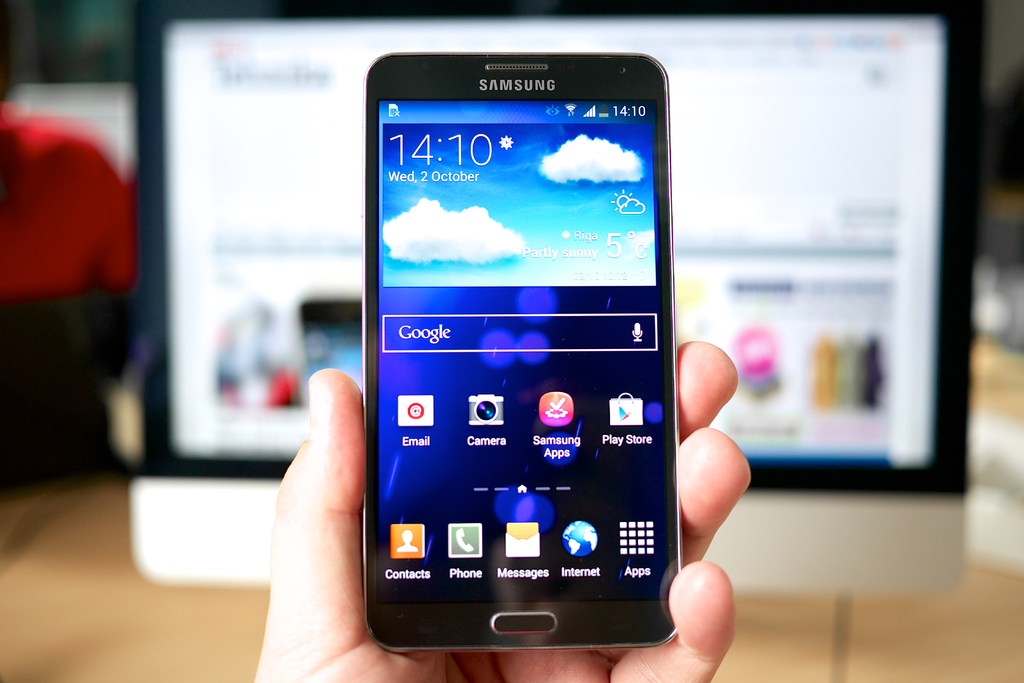Mobile-phone: (361, 45, 676, 654)
